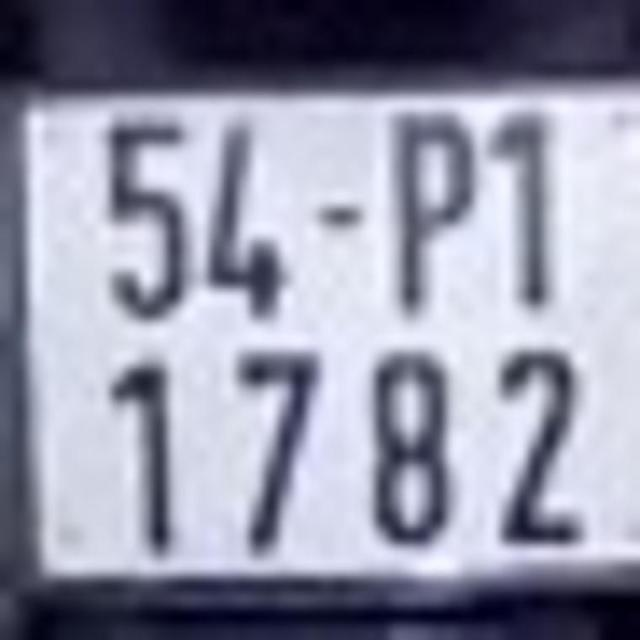1: (488, 102, 560, 308), (110, 357, 180, 555)
2: (496, 340, 586, 548)
4: (204, 111, 291, 323)
5: (103, 115, 191, 322)
7: (230, 339, 323, 556)
8: (370, 344, 451, 550)
P: (384, 100, 479, 318)
